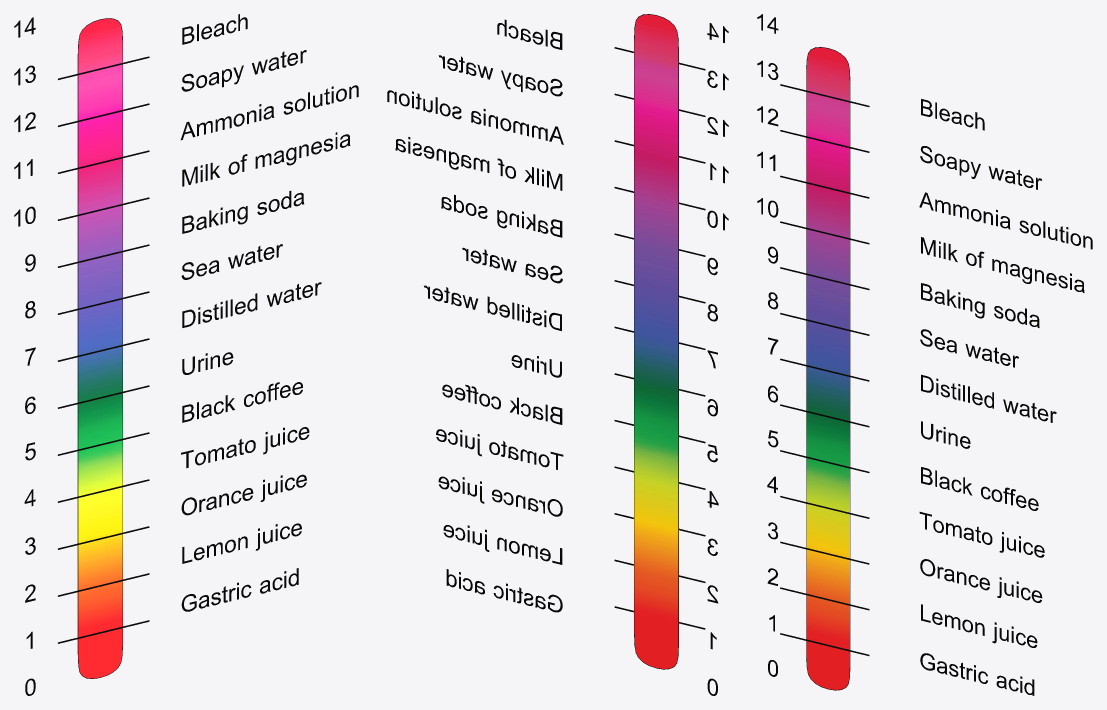
File: the_ph_scale_measures_h_in_a_solution.glb
3 renders of one model, left to right at view 1: azimuth 30°, elevation 25°; view 2: azimuth 150°, elevation 25°; view 3: azimuth 330°, elevation 25°, orthographic. The views are drawn at different scales.
Parts seen in each view (by area): view 1: Object_8, Object_2, Object_6, Object_7; view 2: Object_8, Object_2, Object_6, Object_7; view 3: Object_8, Object_2, Object_6, Object_7.
Boxes of the visible parts, <box> form: Object_8: <box>78,18,122,678</box>; Object_2: <box>14,14,358,695</box>; Object_6: <box>58,56,149,643</box>; Object_7: <box>77,18,122,678</box>; Object_8: <box>634,14,678,668</box>; Object_2: <box>387,19,728,695</box>; Object_6: <box>614,47,705,629</box>; Object_7: <box>634,14,678,669</box>; Object_8: <box>806,47,849,689</box>; Object_2: <box>757,14,1092,695</box>; Object_6: <box>780,84,869,655</box>; Object_7: <box>806,47,850,690</box>.
Size of the model in its own units: 344 by 646 by 18.11.
Materials: 2 (1 with a texture image).
